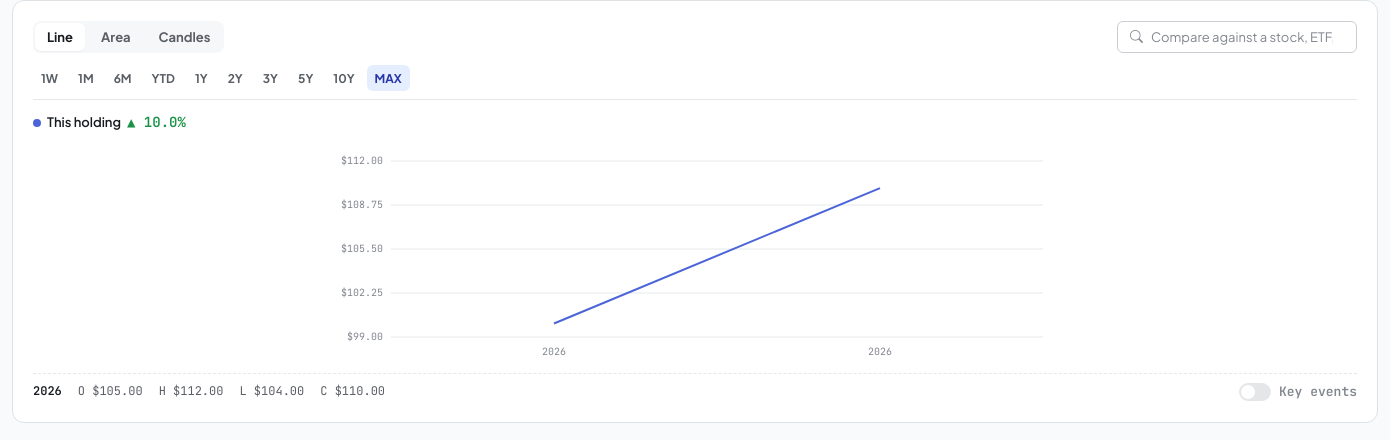
Test: HoldingPriceChart › disables the Key events toggle on long ranges and turns it back off when switching to one
expect the checkbox labelled "Key events" is disabled: met, box [1239,382,1357,402]
Click the button "6M" at (123, 78), box [106,65,140,91]
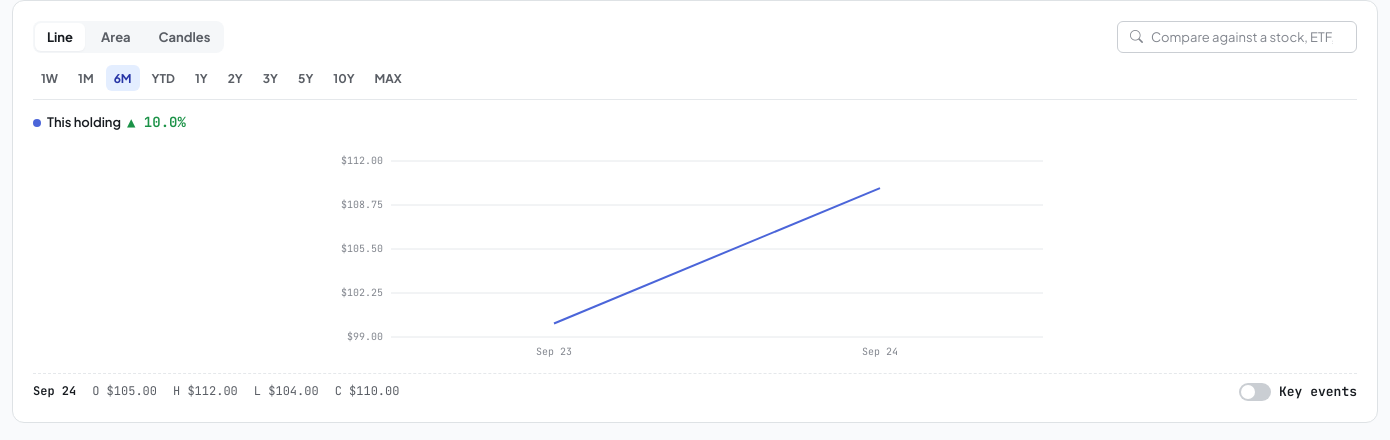
expect the checkbox labelled "Key events" is enabled: met
Click the checkbox labelled "Key events" at (1298, 392), box [1239,382,1357,402]
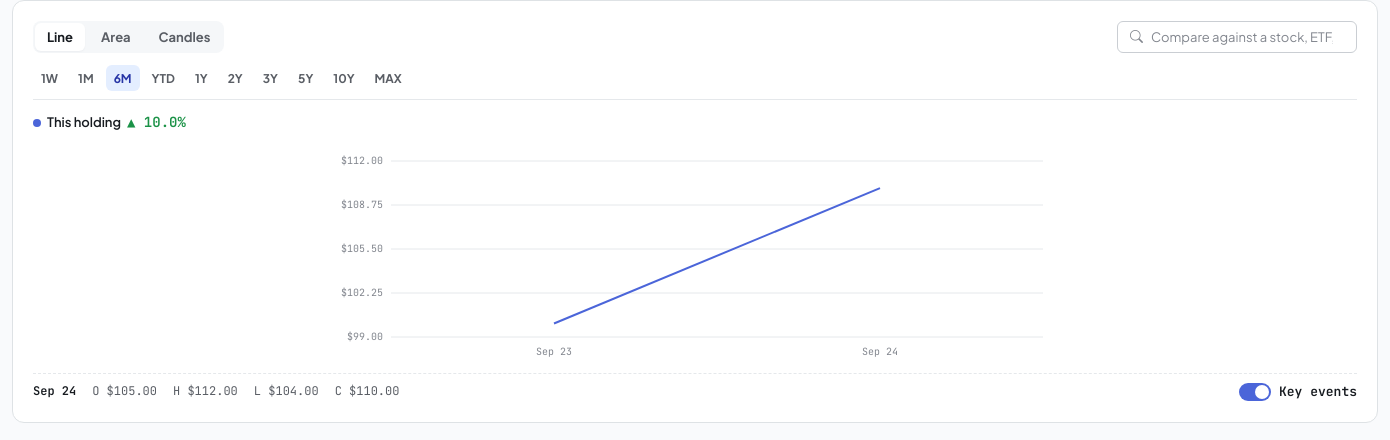
expect the checkbox labelled "Key events" is checked: met, box [1239,382,1357,402]
Click the button "2Y" at (235, 78), box [220,65,251,91]
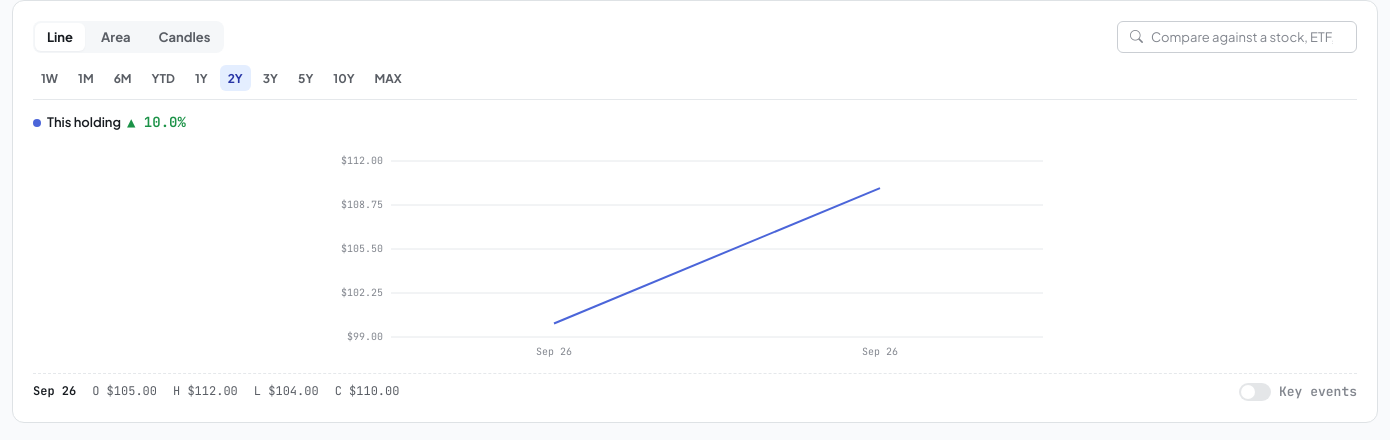
expect the checkbox labelled "Key events" is not checked: met, box [1239,382,1357,402]
expect the checkbox labelled "Key events" is disabled: met, box [1239,382,1357,402]
